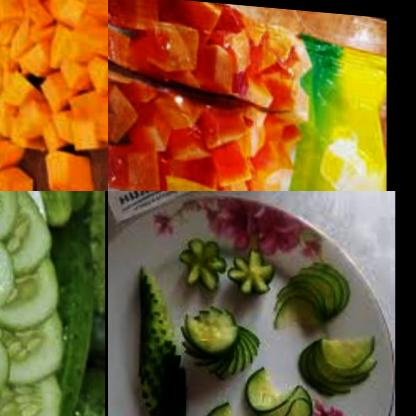cucumber: (4, 191, 106, 416), (0, 191, 63, 416), (128, 252, 201, 416), (174, 224, 276, 306), (178, 288, 264, 384), (286, 319, 377, 398), (269, 248, 351, 321), (233, 364, 318, 416), (199, 395, 293, 416)
pumpkin: (108, 0, 301, 191), (0, 0, 108, 191)
